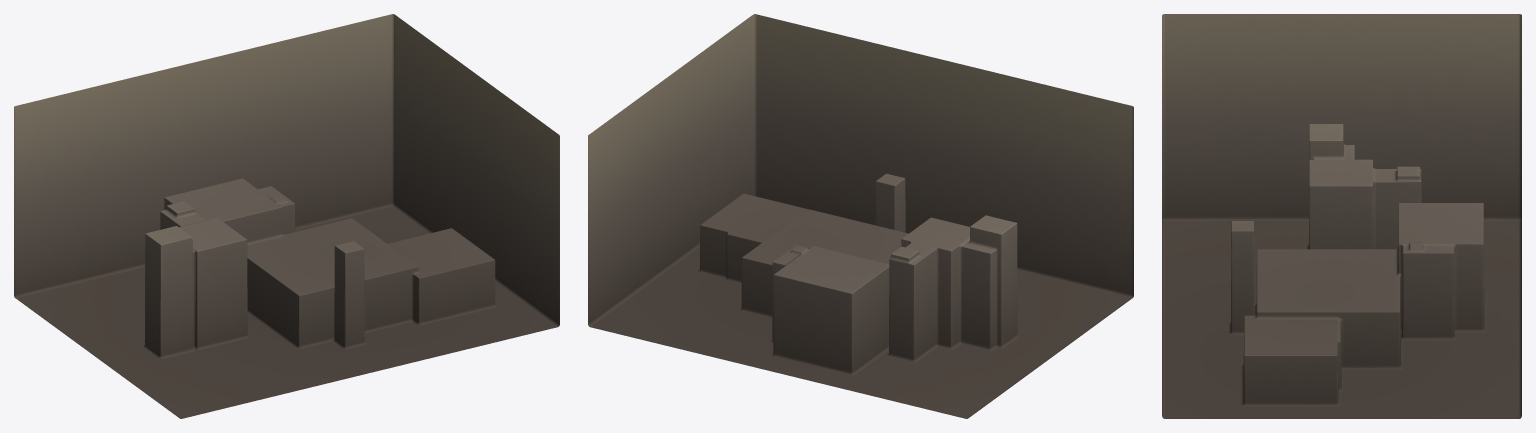
File: weaverdeep_col.glb
3 renders of one model, left to right at view 1: azimuth 30°, elevation 25°; view 2: azimuth 150°, elevation 25°; view 3: azimuth 270°, elevation 25°, orthographic. The views are drawn at different scales.
Parts seen in each view (by area): view 1: geometry_0; view 2: geometry_0; view 3: geometry_0.
Boxes of the visible parts, x1,y1,x2,y2 form: geometry_0: (14, 14, 559, 418); geometry_0: (588, 14, 1133, 418); geometry_0: (1162, 14, 1521, 418).
Size of the model in its own units: 140 by 67.44 by 107.
